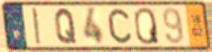4: (82, 5, 106, 48)
9: (162, 6, 186, 46)
C: (106, 7, 133, 45)
I: (31, 7, 44, 46)
Q: (133, 6, 161, 45), (53, 7, 78, 45)
